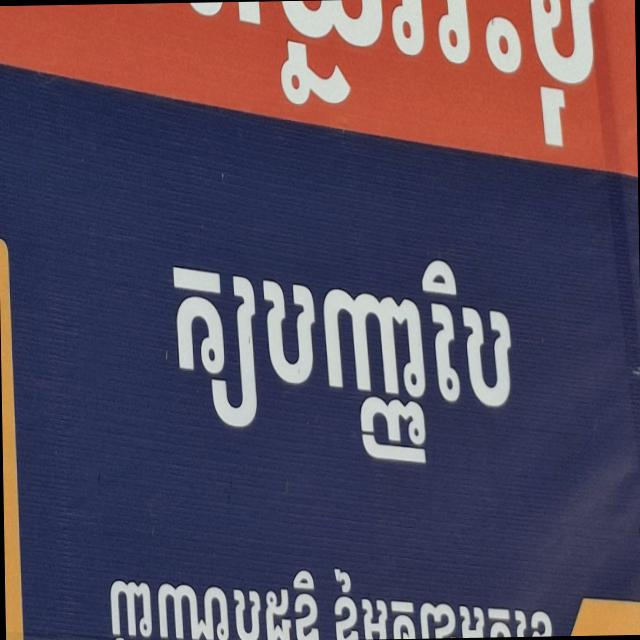Yolov11_80vkh: (132, 190, 539, 526)
